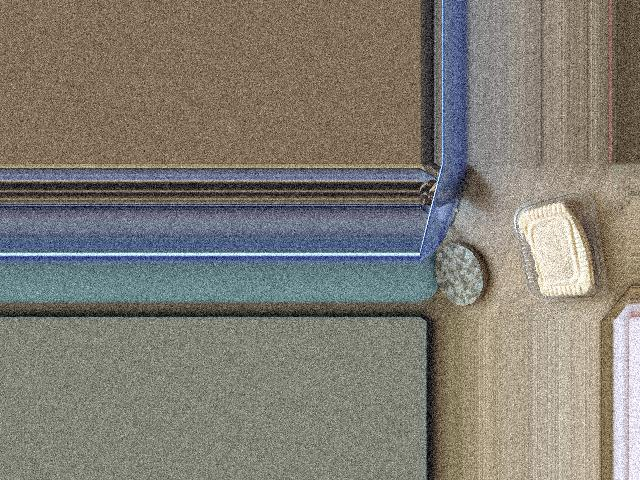cheese: (507, 202, 631, 316)
